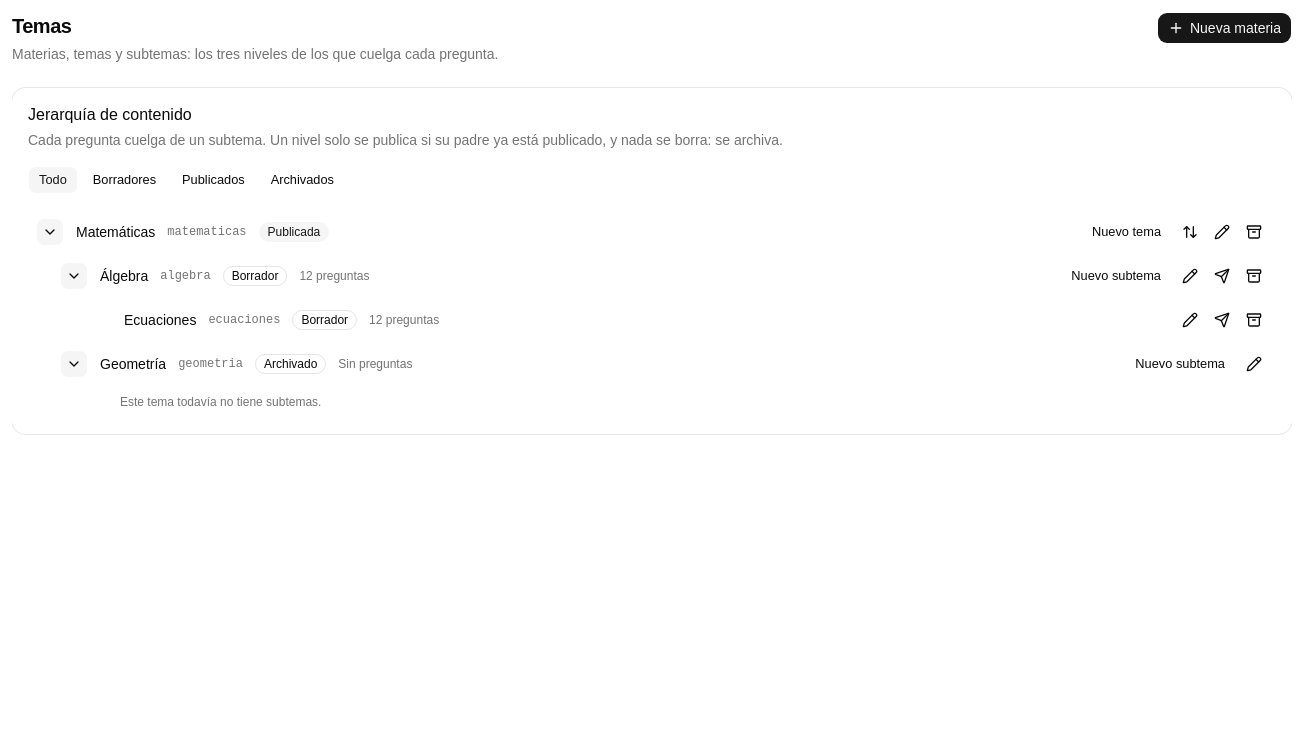
it: gestión de temas y subtemas › enseña el motivo del servidor cuando la cadena de publicación lo impide
The width and height of the screenshot is (1304, 732).
Click the button named "Publicar el subtema Ecuaciones" at (1222, 320), box [1208,306,1236,334]
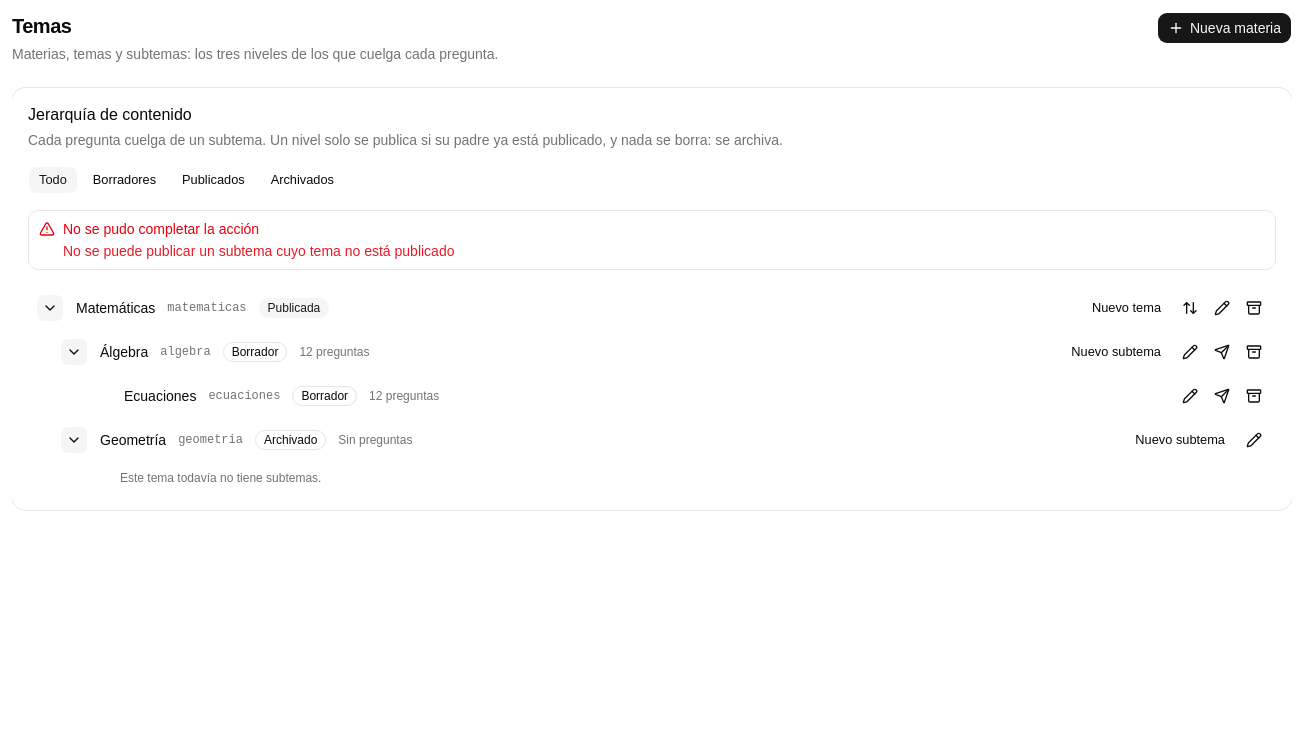
Expected: the text "No se puede publicar un subtema cuyo tema no está publicado" is shown, [63,243,454,259]
